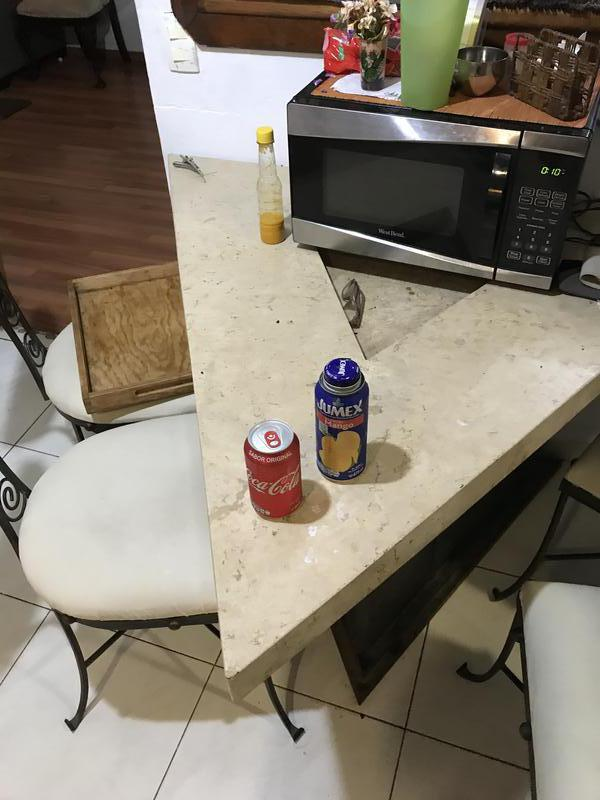coca_cola: (244, 422, 305, 518)
jugo_jumex: (314, 359, 367, 482)
